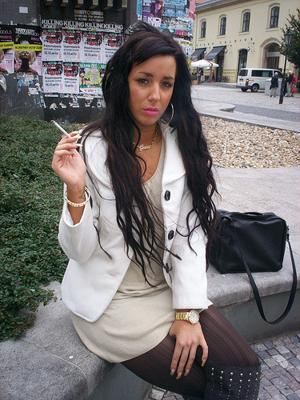person: (52, 23, 262, 398)
